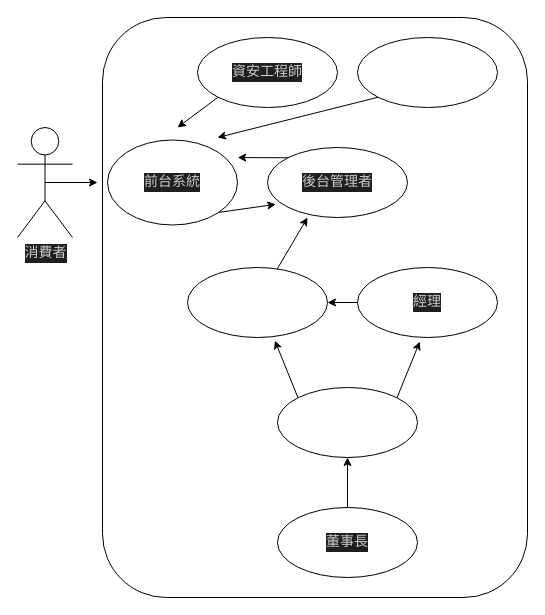
Image size: 545x615. Some labels were removed from this diagram. Each missing label, with the centre of its shape:
執行長: the point at 347,422
程式工程師: the point at 427,72
部門處長: the point at 257,302
